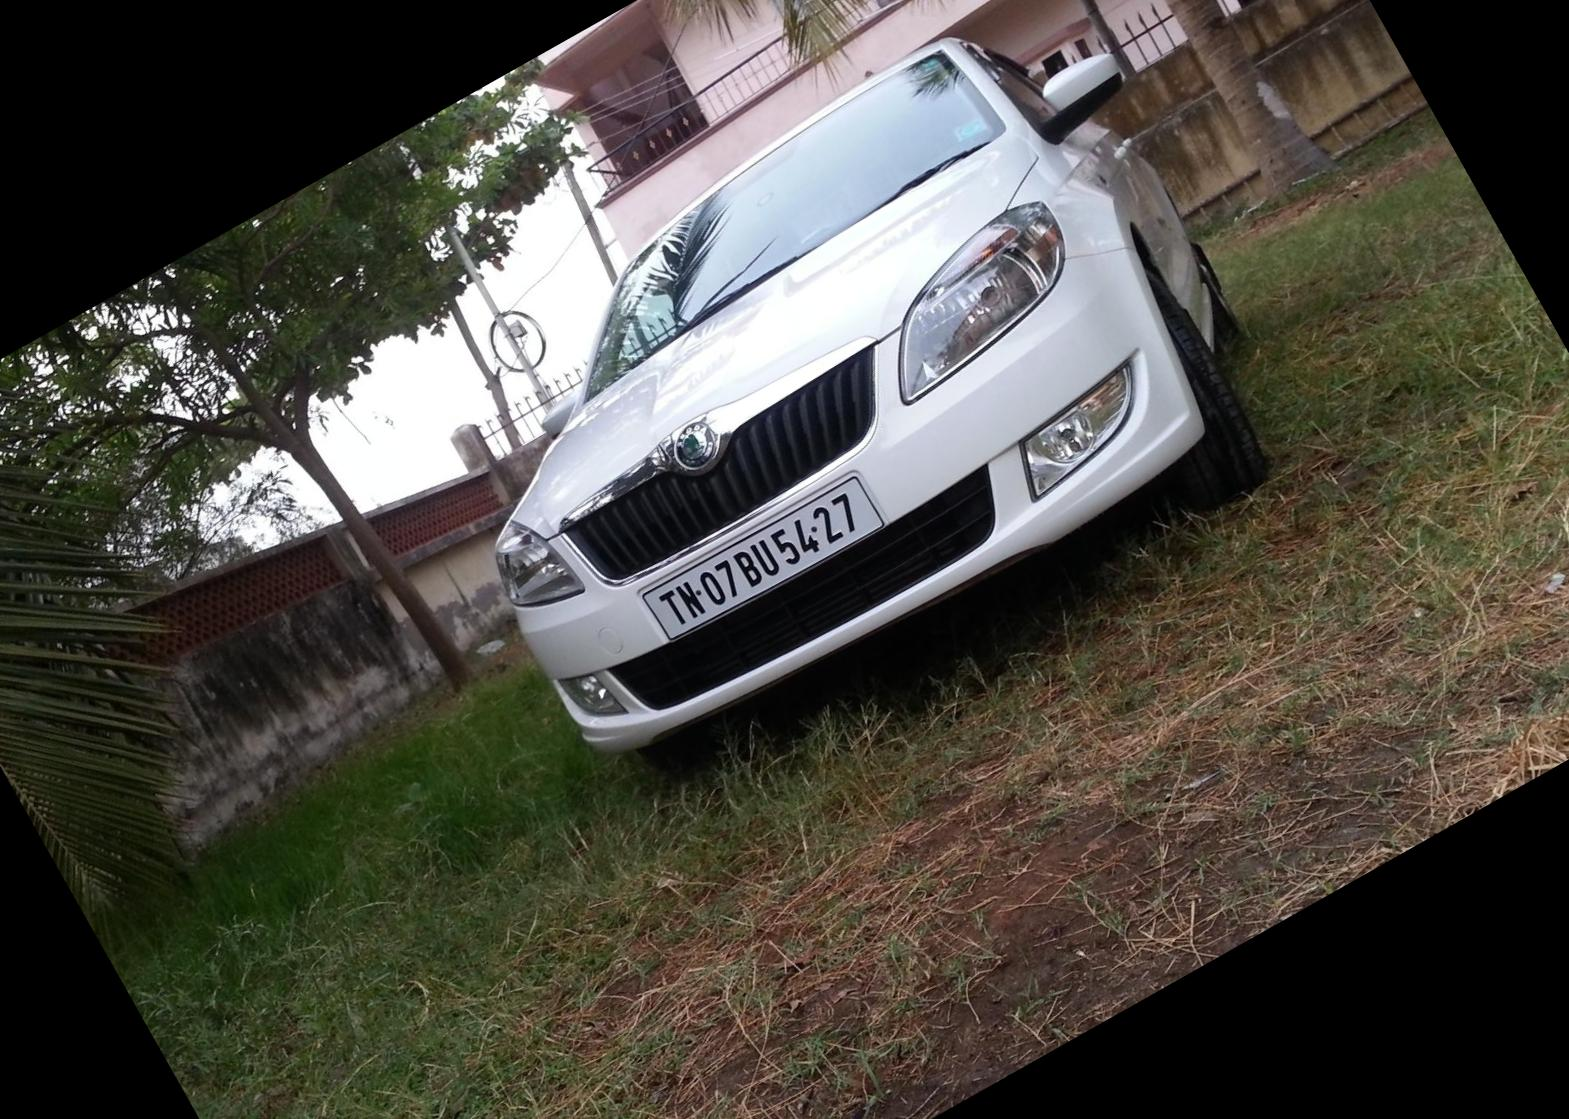plate: (636, 460, 887, 644)
